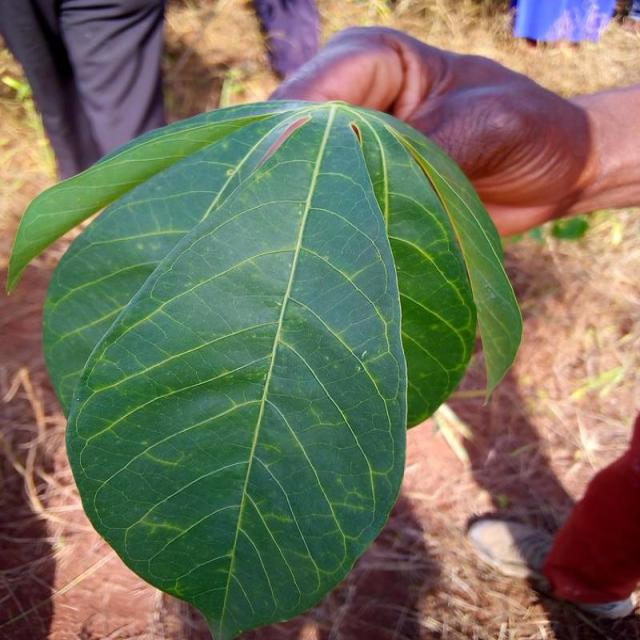cassava leaf: (13, 97, 522, 637)
